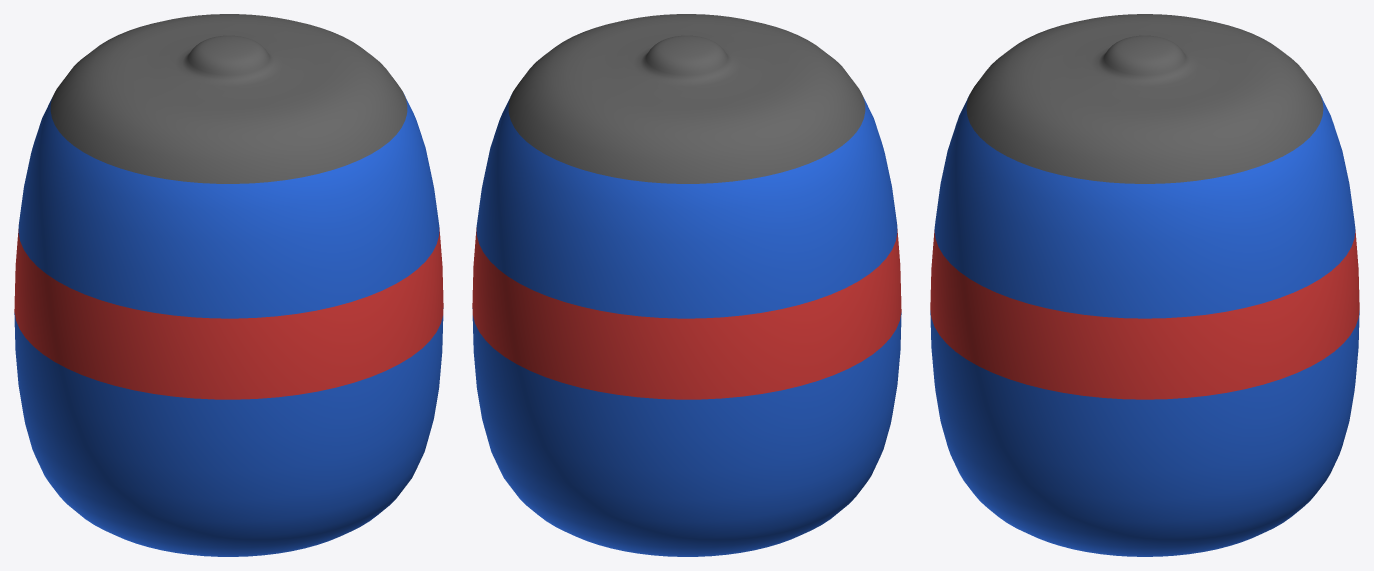
Rendered from Soda.fbx.
3 views of the same model, side by side, from view 1: azimuth 30°, elevation 25°; view 2: azimuth 150°, elevation 25°; view 3: azimuth 270°, elevation 25° (orthographic).
Parts seen in each view (by area): view 1: Soda; view 2: Soda; view 3: Soda.
Part boxes in pixels (x1=…): Soda: x1=14, y1=14, x2=443, y2=556; Soda: x1=472, y1=14, x2=901, y2=556; Soda: x1=930, y1=14, x2=1359, y2=556.
Size of the model in its own units: 23.82 by 28.3 by 23.82.
